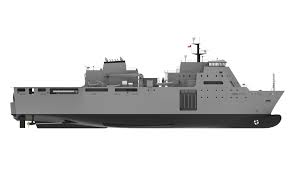Ship: (11, 58, 283, 129)
